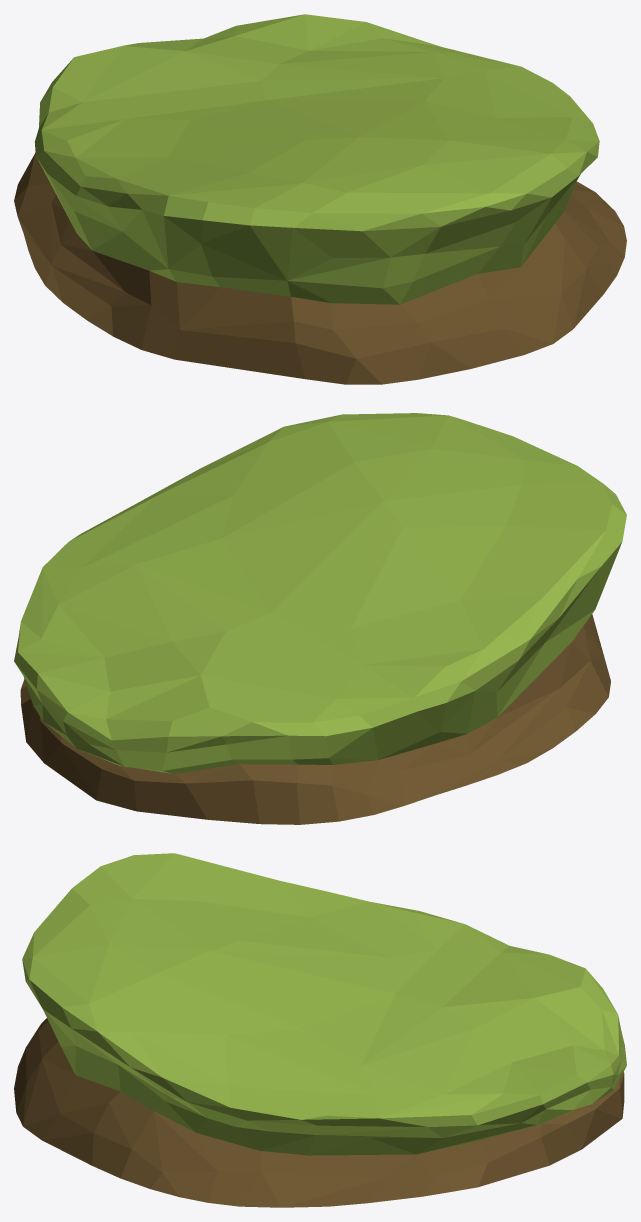
The model's file is grass hill 1.fbx.
The picture shows the model from 3 angles, top to bottom: view 1: azimuth 30°, elevation 25°; view 2: azimuth 150°, elevation 25°; view 3: azimuth 270°, elevation 25°; orthographic projection. The views are drawn at different scales.
Parts seen in each view (by area): view 1: grass hill large_LOD0; view 2: grass hill large_LOD0; view 3: grass hill large_LOD0.
Boxes of the visible parts, x1,y1,x2,y2 form: grass hill large_LOD0: [14, 14, 626, 384]; grass hill large_LOD0: [14, 413, 626, 824]; grass hill large_LOD0: [14, 853, 626, 1207].
Size of what is drawn, in the model's own units: 42.01 by 13.3 by 48.69.
